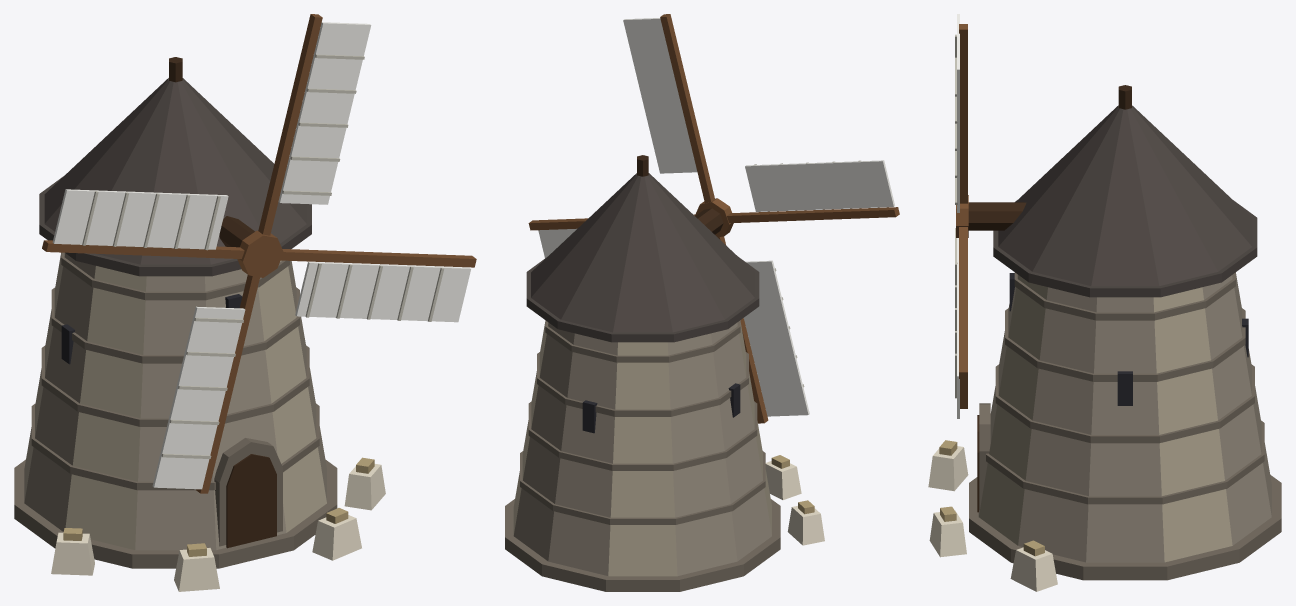
File: windmill-2x2-t4.glb
3 views of the same model, side by side, from view 1: azimuth 30°, elevation 25°; view 2: azimuth 150°, elevation 25°; view 3: azimuth 270°, elevation 25° (orthographic). The views are drawn at different scales.
Visible parts, largest first — view 1: windmill-2x2-t4; view 2: windmill-2x2-t4; view 3: windmill-2x2-t4.
Part boxes in pixels (x1,y1,x2,y2): windmill-2x2-t4: (14,14,476,591); windmill-2x2-t4: (505,14,899,591); windmill-2x2-t4: (928,14,1281,591).
Bounding box in the file's own units: 1.9 × 2.25 × 1.4.
Materials: 1 (1 with a texture image).
